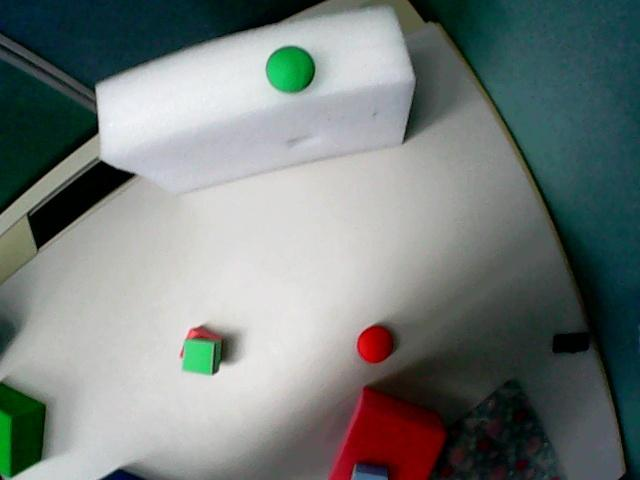blue_block: (352, 463, 387, 479), (102, 470, 142, 479)
red_block: (329, 388, 445, 479), (186, 326, 221, 340)
